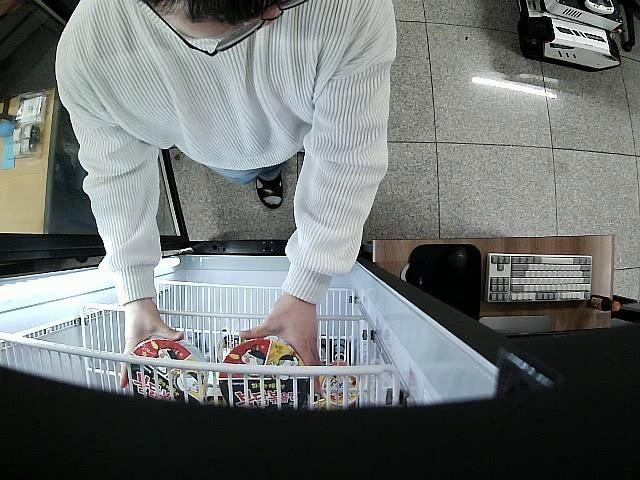07_buldak_L: (221, 337, 310, 414), (126, 336, 208, 407)
